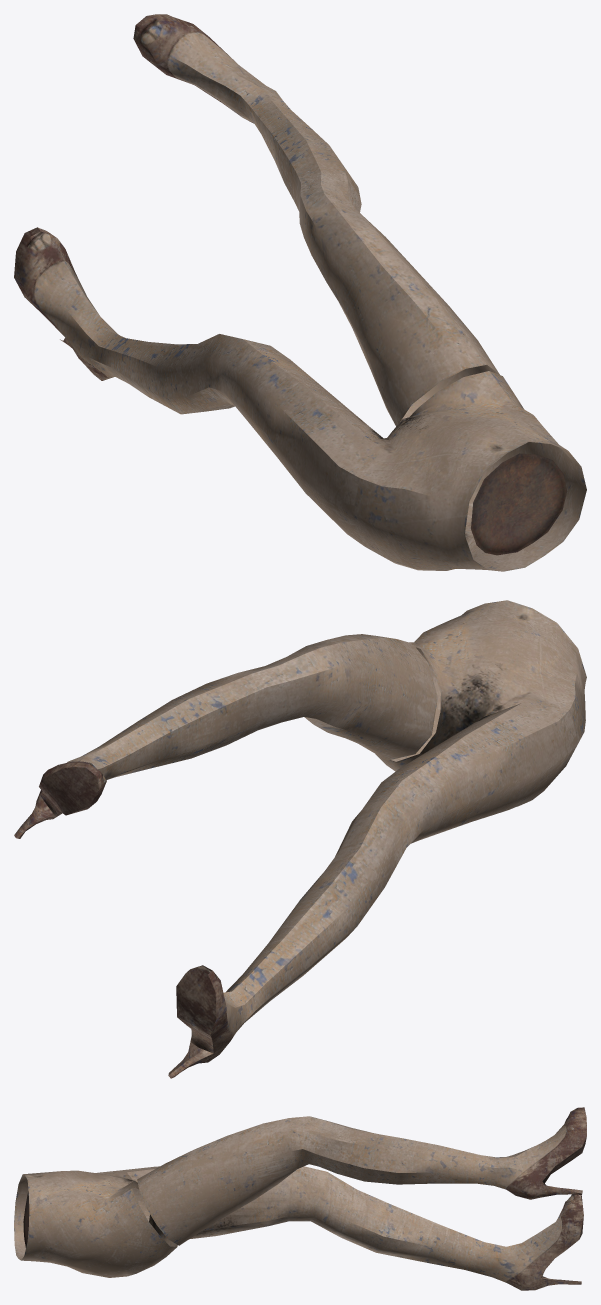
File: haveWoman.fbx
3 views of the same model, one above another, from view 1: azimuth 30°, elevation 25°; view 2: azimuth 150°, elevation 25°; view 3: azimuth 270°, elevation 25° (orthographic). The views are drawn at different scales.
Visible parts, largest first — view 1: Object_2.001; view 2: Object_2.001; view 3: Object_2.001.
Part boxes in pixels (x1,y1,x2,y2): Object_2.001: (14, 14, 586, 571); Object_2.001: (14, 600, 586, 1078); Object_2.001: (14, 1107, 586, 1290).
Size of the model in its own units: 55.07 by 66.75 by 164.
Materials: 1 (1 with a texture image).
